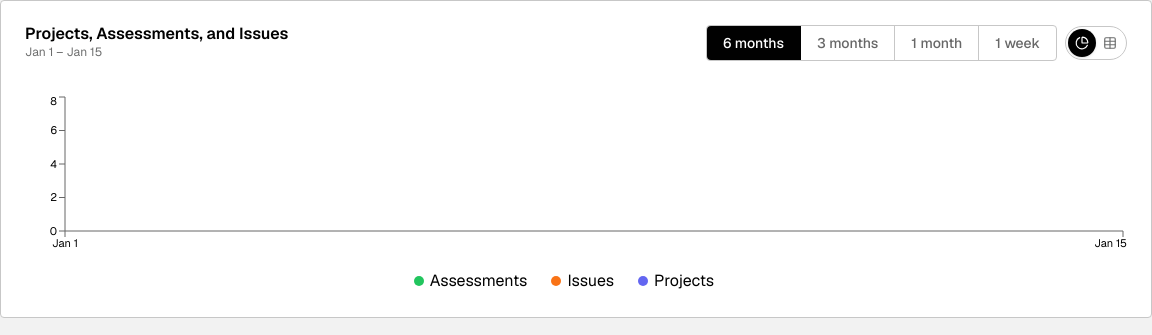
Test: ActivityChart › shows table view with column headers when table toggle is clicked
Step 1. Click the button named "Table view" → (1110, 43), box [1096,29,1124,57]
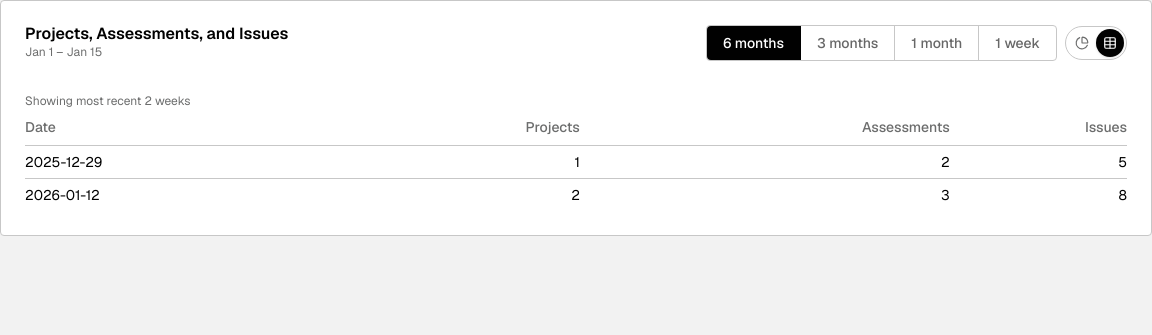
Check: the column heading "Projects" is shown, box [351,117,580,146]
Check: the column heading "Date" is shown, box [25,117,351,146]
